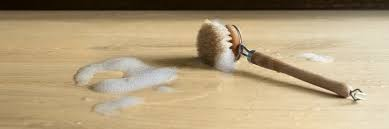Wet-floor: (68, 46, 187, 114)
